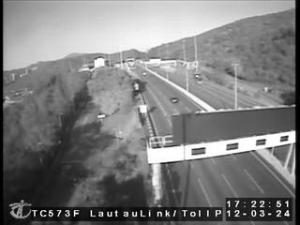bus: (194, 72, 202, 84)
vehicle: (169, 98, 178, 102), (144, 72, 146, 76)
